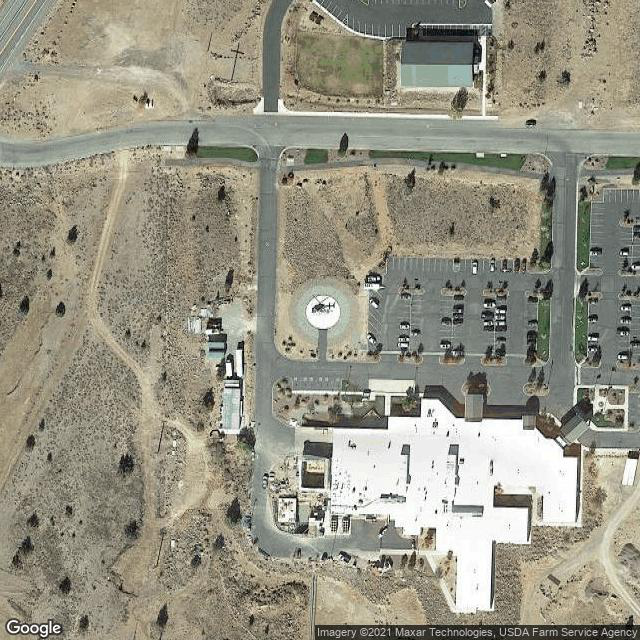Helipad: (307, 291, 341, 325)
